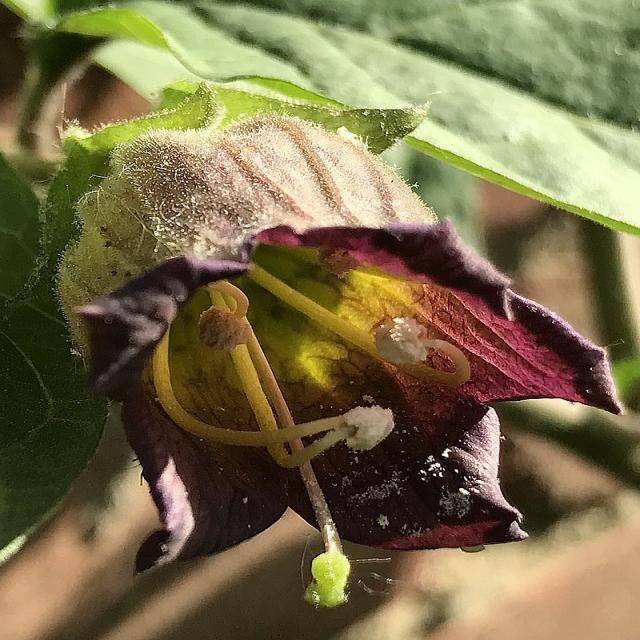Belladonna: (40, 93, 640, 578)
